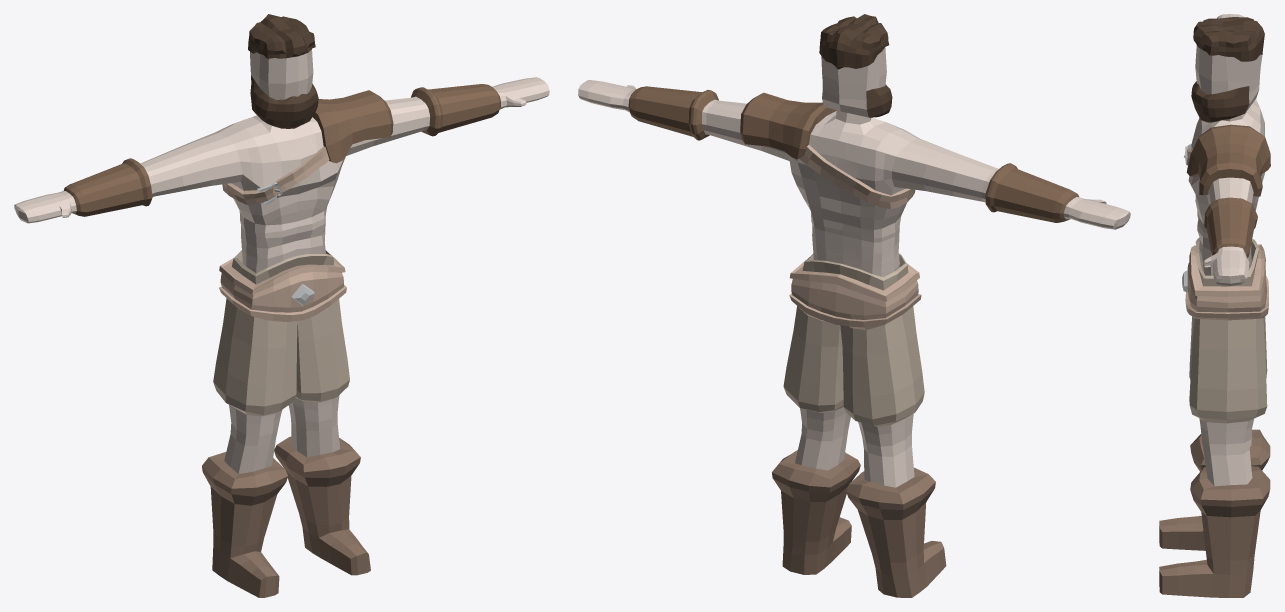
File: Low Poly Warrior.gltf
3 views of the same model, side by side, from view 1: azimuth 30°, elevation 25°; view 2: azimuth 150°, elevation 25°; view 3: azimuth 270°, elevation 25° (orthographic). The views are drawn at different scales.
Parts seen in each view (by area): view 1: Low Poly Warrior; view 2: Low Poly Warrior; view 3: Low Poly Warrior.
Boxes of the visible parts, <box> form: Low Poly Warrior: <box>14,14,549,597</box>; Low Poly Warrior: <box>578,14,1130,597</box>; Low Poly Warrior: <box>1159,14,1270,597</box>.
Bounding box in the file's own units: 2.13 × 2.07 × 0.3841.
